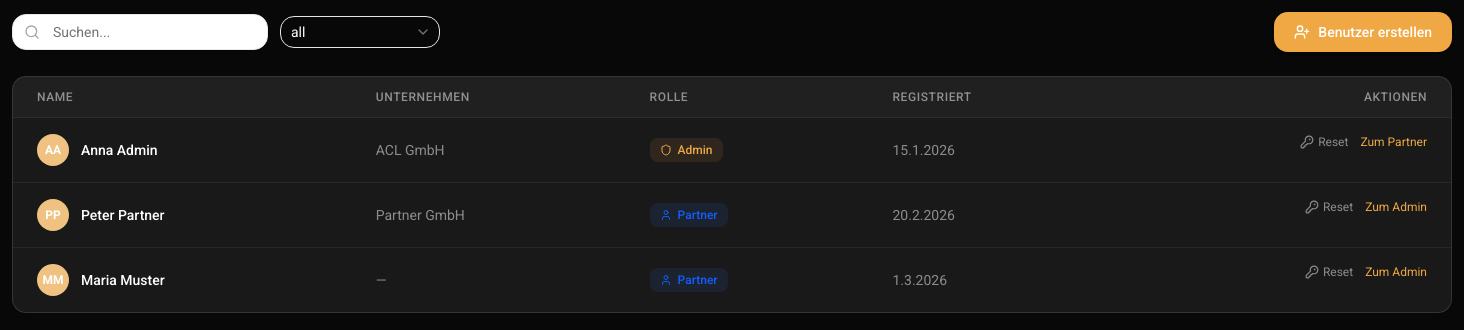
AdminUsersList › Suche und Filter › filtert Benutzer nach Name
This screenshot has width=1464, height=330.
Type "Anna" into the field with placeholder "Suchen..." at {"x": 140, "y": 32}, box [12, 14, 268, 50]
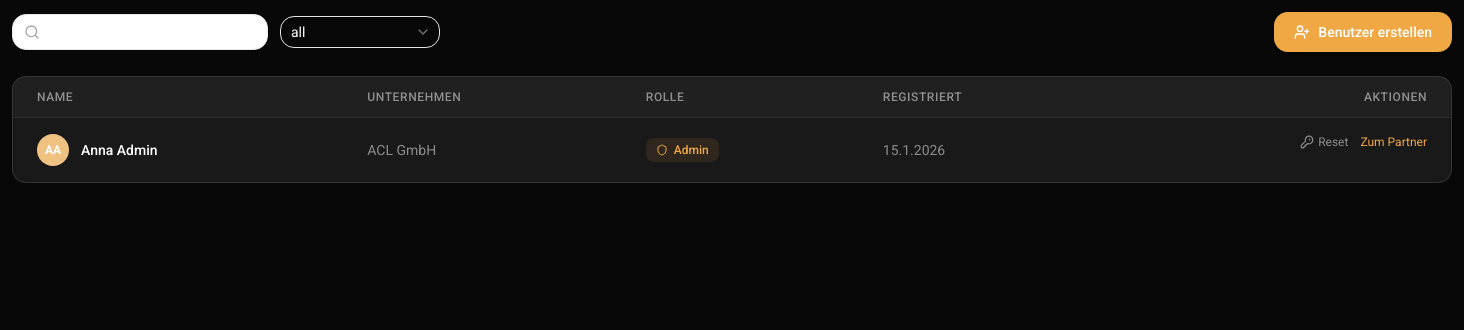
Check: the text "Anna Admin" is shown, box [81, 140, 158, 160]
Check: the text "Peter Partner" is gone
